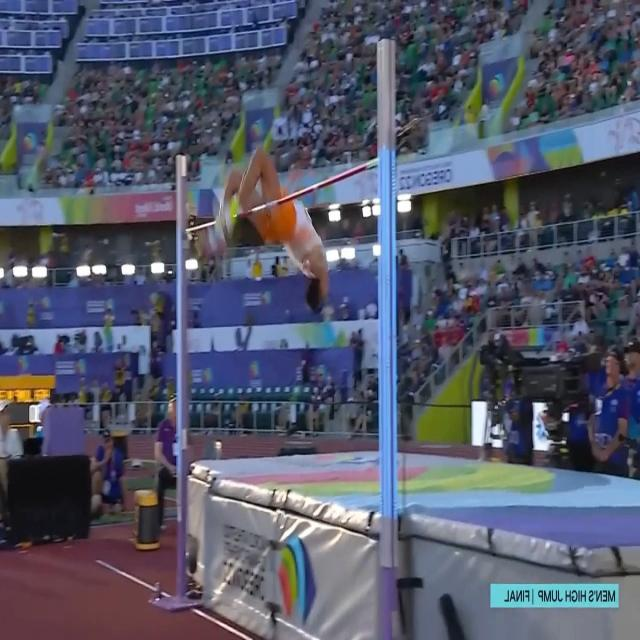jump: (196, 146, 332, 316)
